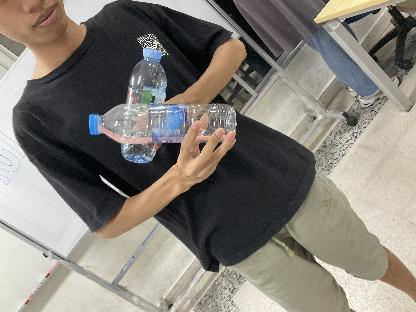Plastic Bottle: (90, 102, 238, 144), (121, 47, 167, 163)
